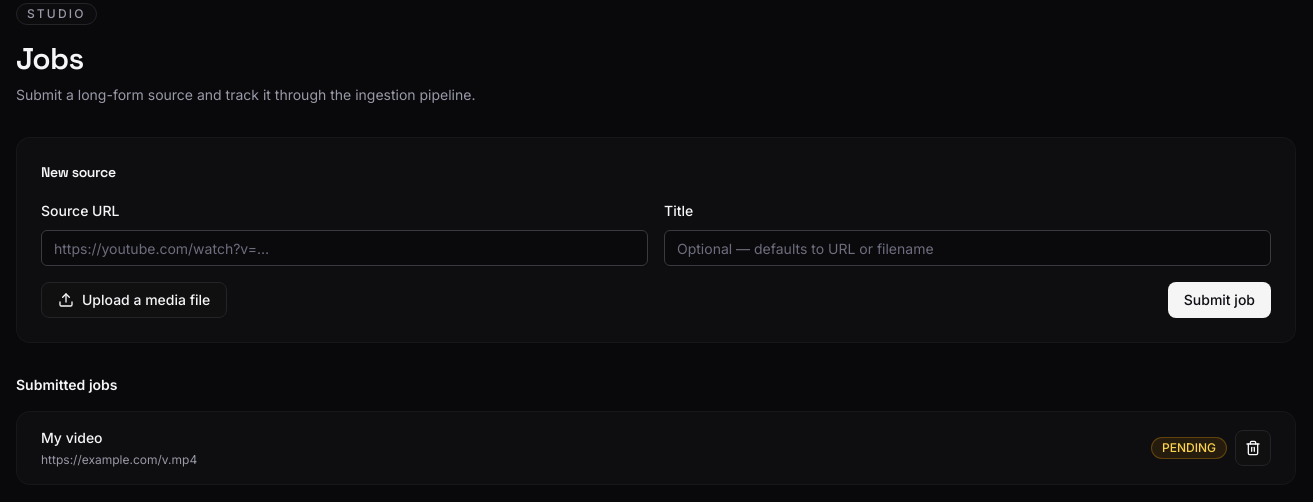
Test: JobsPage › deletes a pending job via the delete button
The width and height of the screenshot is (1313, 502).
Expected: the text "PENDING" is shown, [1151,437,1227,459]
Click the button named "delete job" at point(1253, 448), box [1235,430,1271,466]
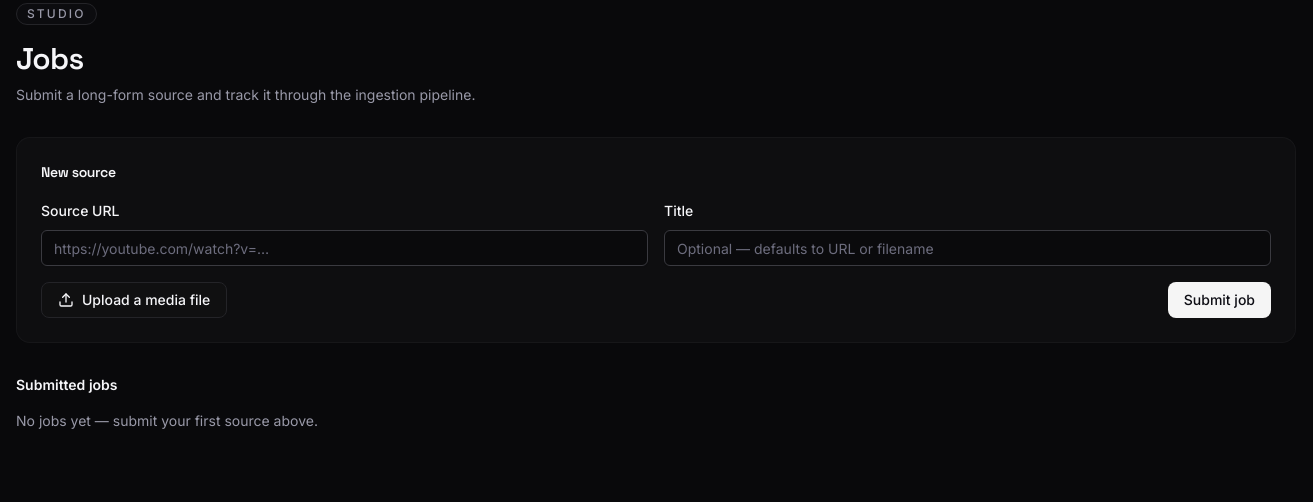
Result: the text "No jobs yet — submit your first source above." is shown at [16,412,318,429]
